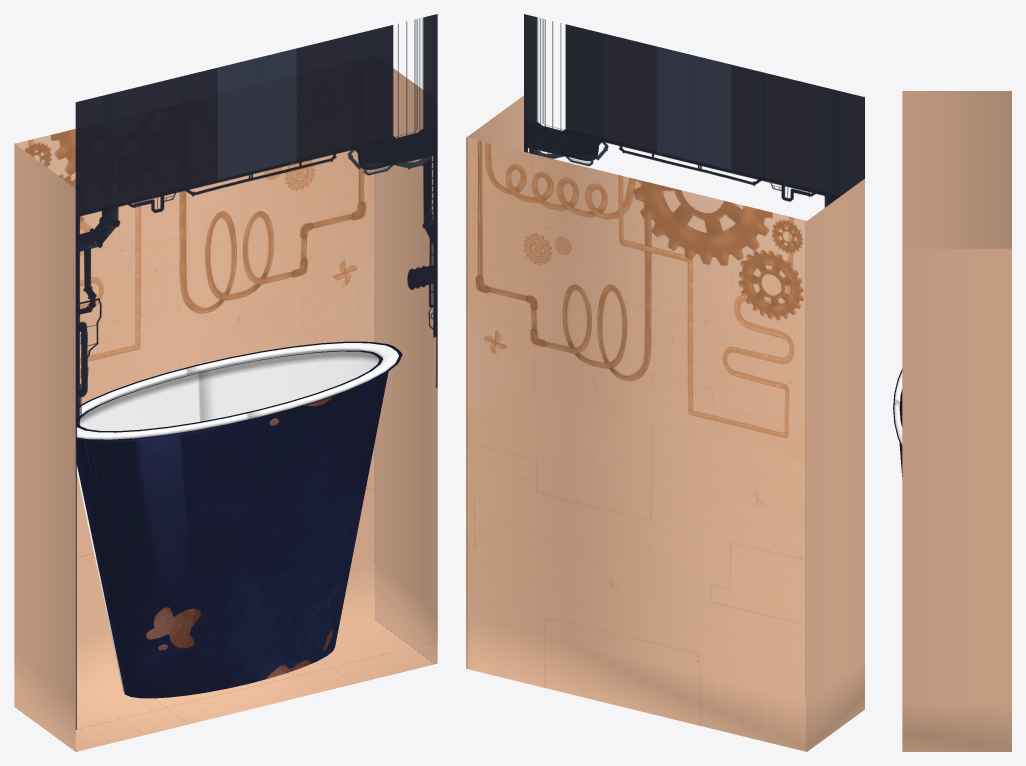
Rendered from bounds.glb.
3 views of the same model, side by side, from view 1: azimuth 30°, elevation 25°; view 2: azimuth 150°, elevation 25°; view 3: azimuth 270°, elevation 25° (orthographic). The views are drawn at different scales.
Parts seen in each view (by area): view 1: Cube, Cylinder, Plane, Cylinder.001, Cylinder.002; view 2: Cube, Plane; view 3: Cube, Cylinder.001.
Boxes of the visible parts, x1,y1,x2,y2 form: Cube: (14,68,437,751); Cylinder: (76,350,388,698); Plane: (75,14,437,729); Cylinder.001: (77,343,398,439); Cylinder.002: (77,341,402,440); Cube: (466,95,864,751); Plane: (524,14,864,207); Cube: (902,91,1011,751); Cylinder.001: (894,372,902,444).
Bounding box in the file's own units: 6.81 × 11.69 × 2.17.
Materials: 5 (4 with a texture image).
